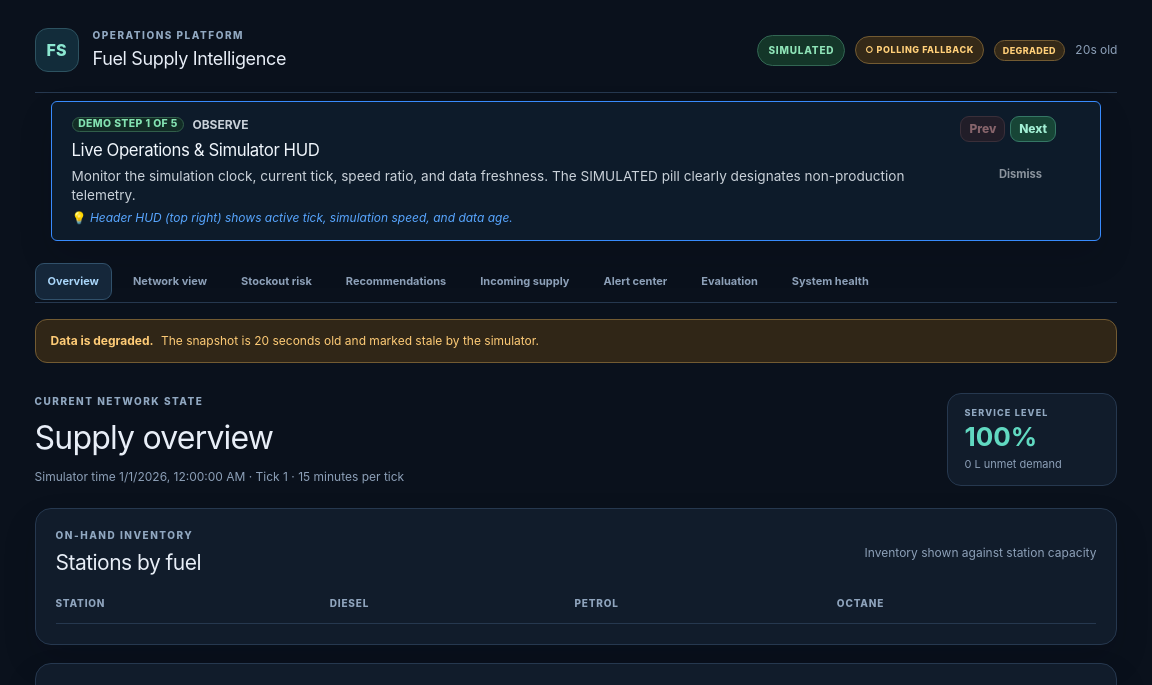
operator application › keeps dashboard, risk, and recommendation views reachable with simulated and stale labels
Expected: the heading "Supply overview" is shown, [34,418,273,456]
Expected: the text "marked stale by the simulator" is shown, [341,333,536,348]
Click the button "Stockout risk" at (276, 282), box [228,263,325,300]
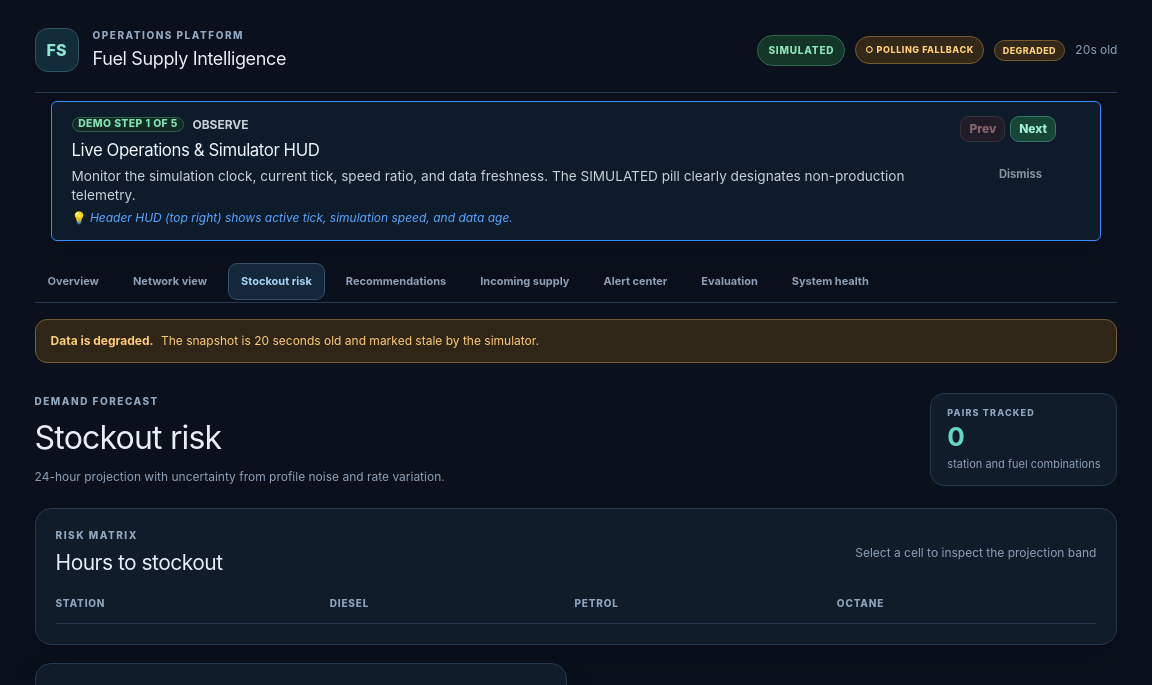
Result: the heading "Stockout risk" is shown at [34,418,221,456]
Click the button "Recommendations" at (396, 282), box [333,263,459,300]
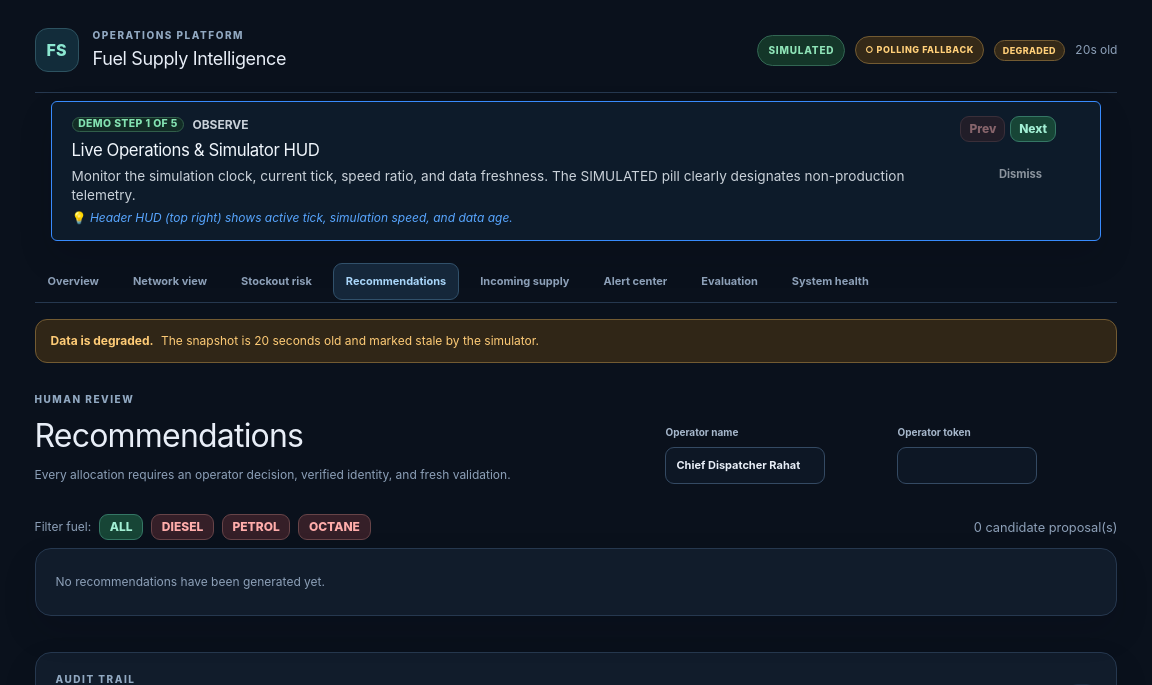
Result: the text "No recommendations have been generated yet." is shown at [56,574,325,589]
